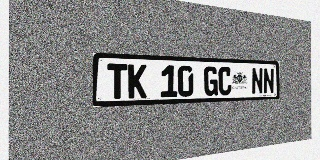0: (178, 65, 193, 97)
1: (161, 65, 177, 97)
C: (218, 67, 231, 95)
G: (204, 66, 218, 96)
K: (128, 64, 147, 98)
N: (252, 68, 263, 94), (263, 68, 274, 94)
T: (107, 63, 127, 99)
